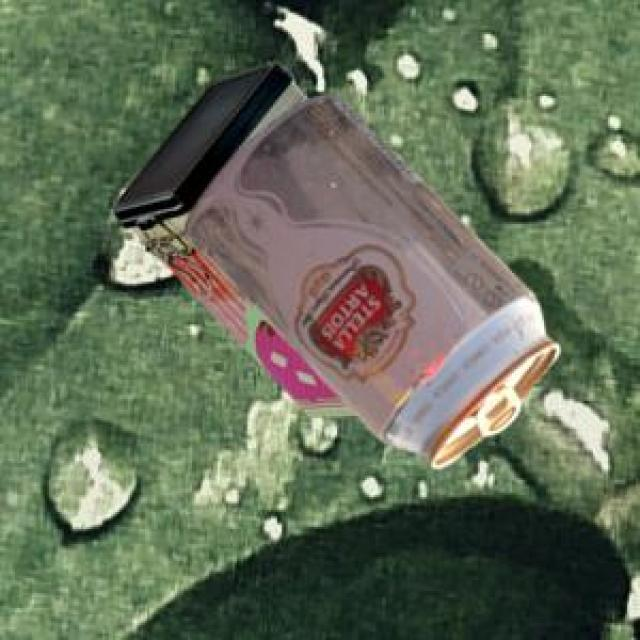Can: (182, 91, 556, 464), (110, 59, 353, 415)
